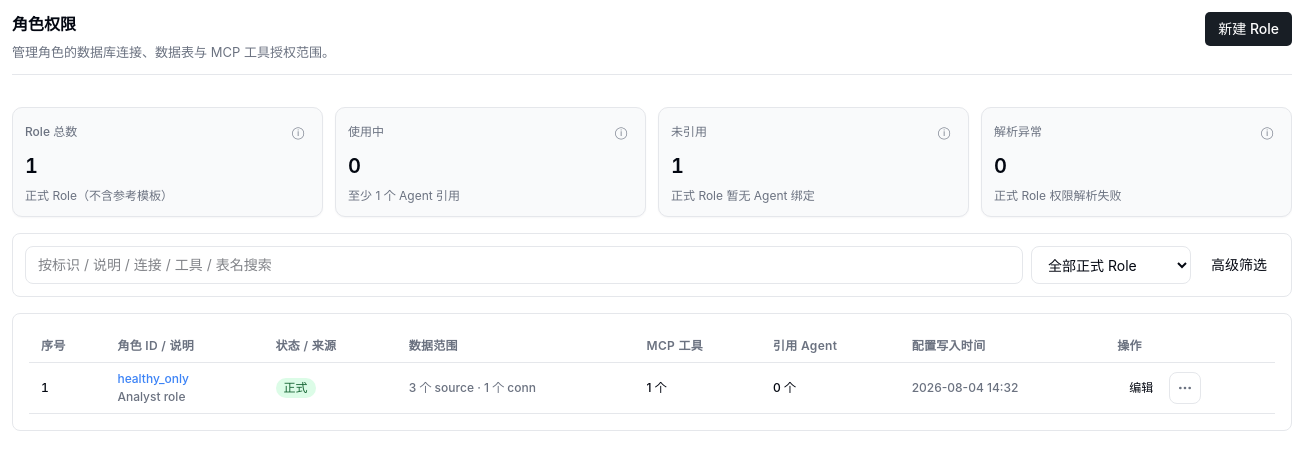
RoleList › shows 没有正式 Role 待修复 when needs-repair filter has no formal invalid roles
Expected: the row with test id "role-row-healthy_only" is shown, [29,362,1275,414]
Step 1. Select "待修复" in the dropdown named "筛选角色范围" → (1111, 265), box [1031,246,1191,284]
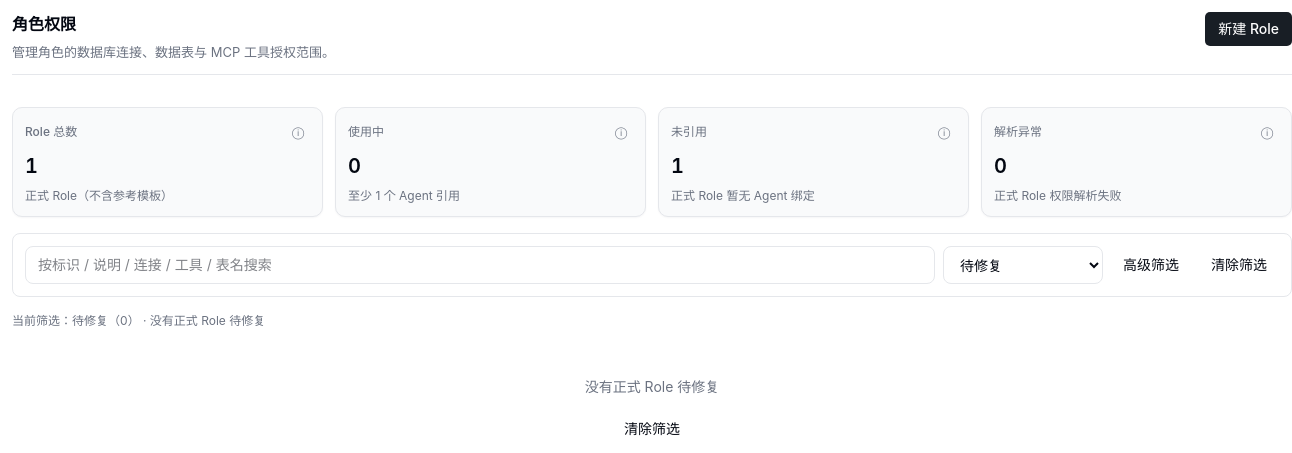
Expected: the text "没有正式 Role 待修复" is shown, [585,378,719,395]
Step 2. Type "xyz" into the field with placeholder "按标识 / 说明 / 连接 / 工具 / 表名搜索" → (480, 265), box [25,246,935,284]
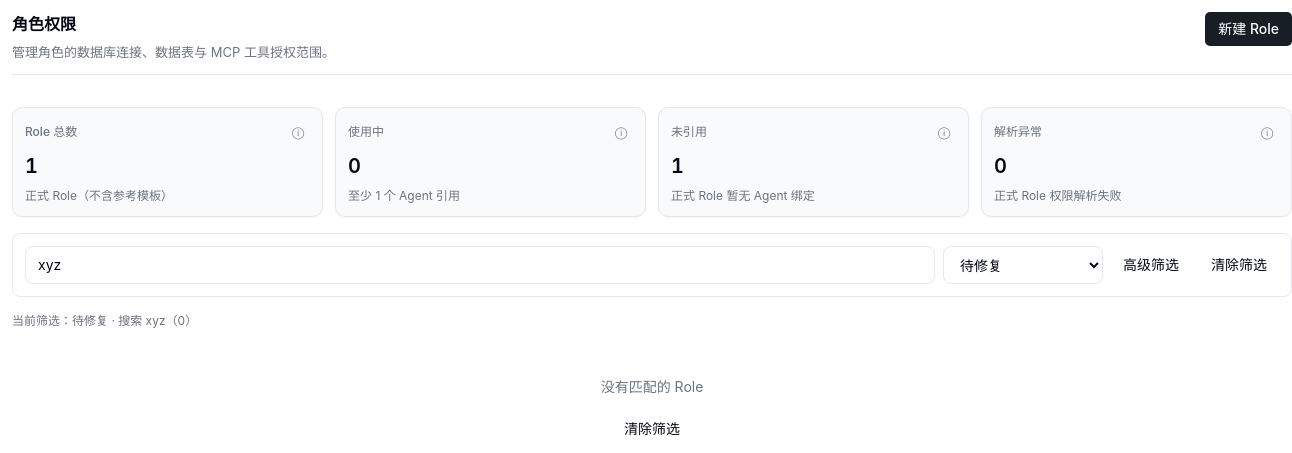
Expected: the text "没有匹配的 Role" is shown, [601,378,703,395]
Expected: the text "没有正式 Role 待修复" is gone
